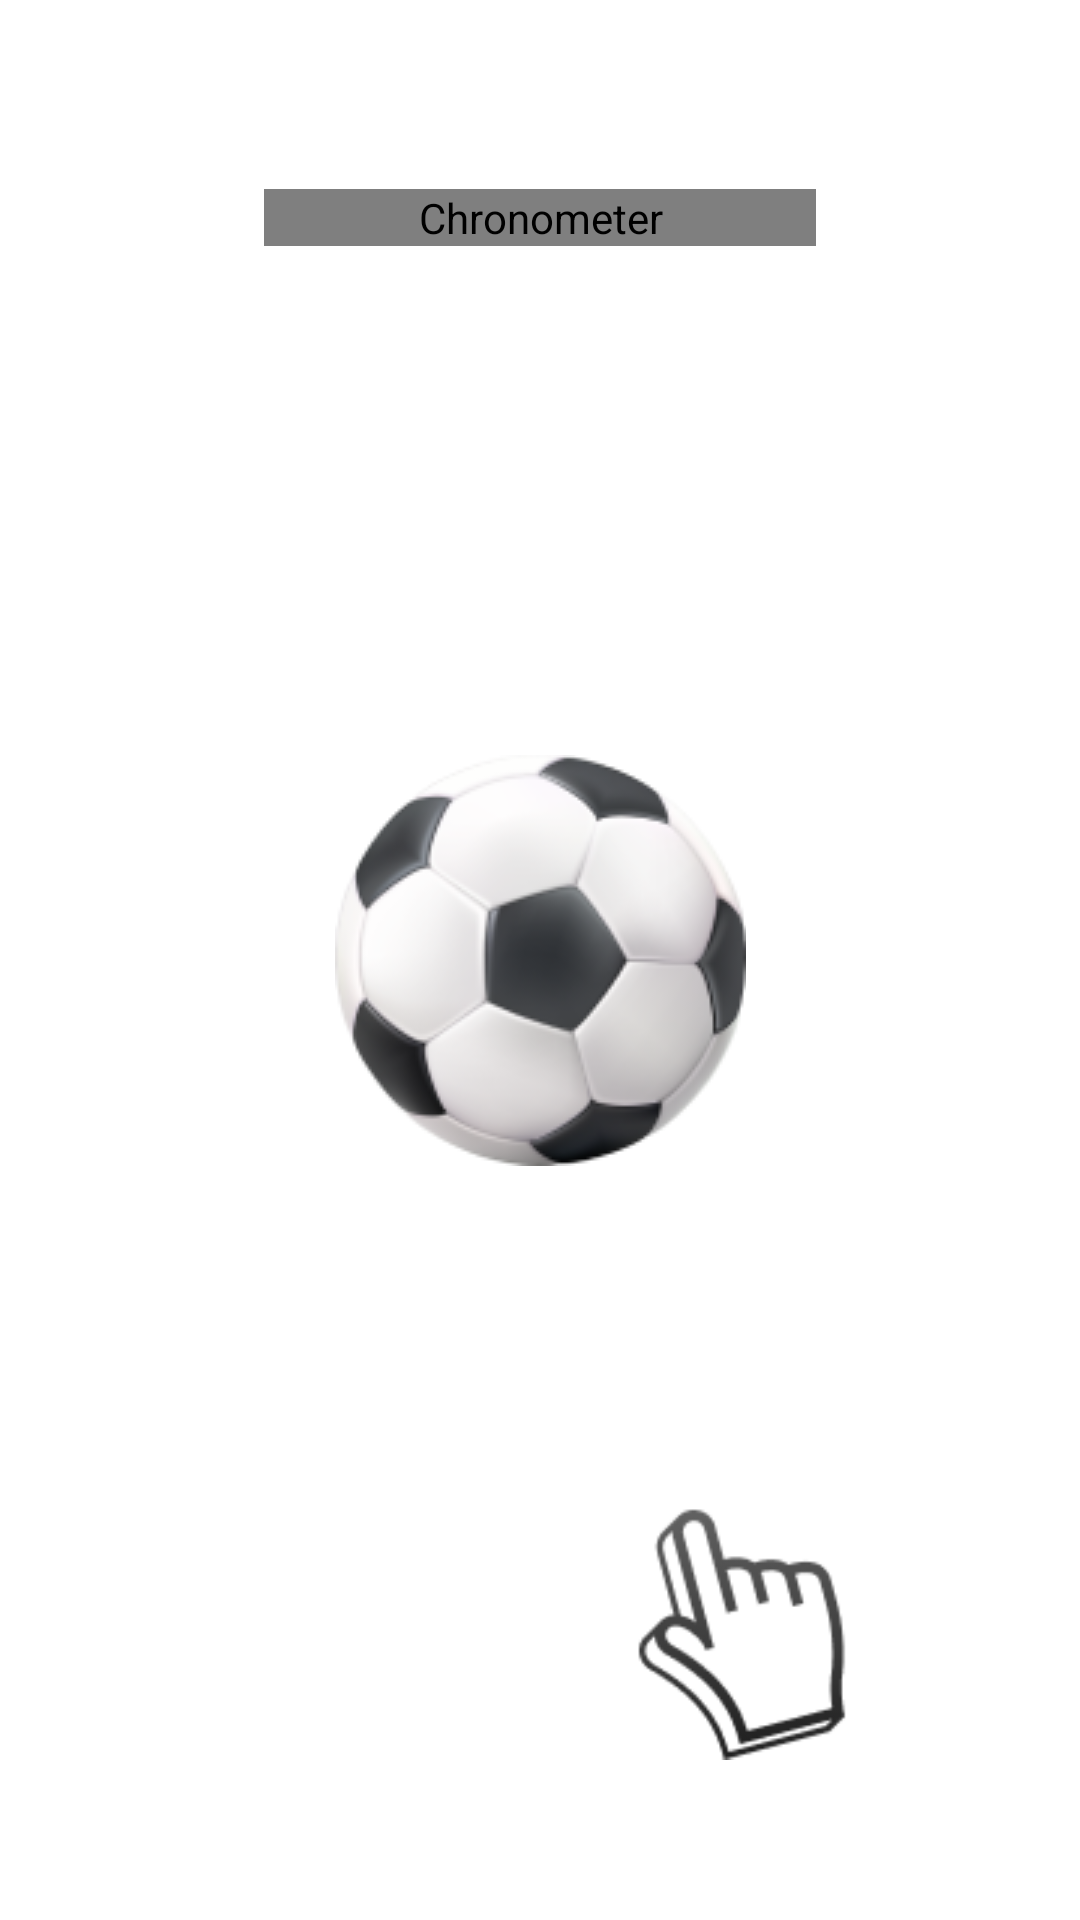

Icon click points for this 1080px×1920px phone screenshot, format (x,y):
finger: (742,1634)
